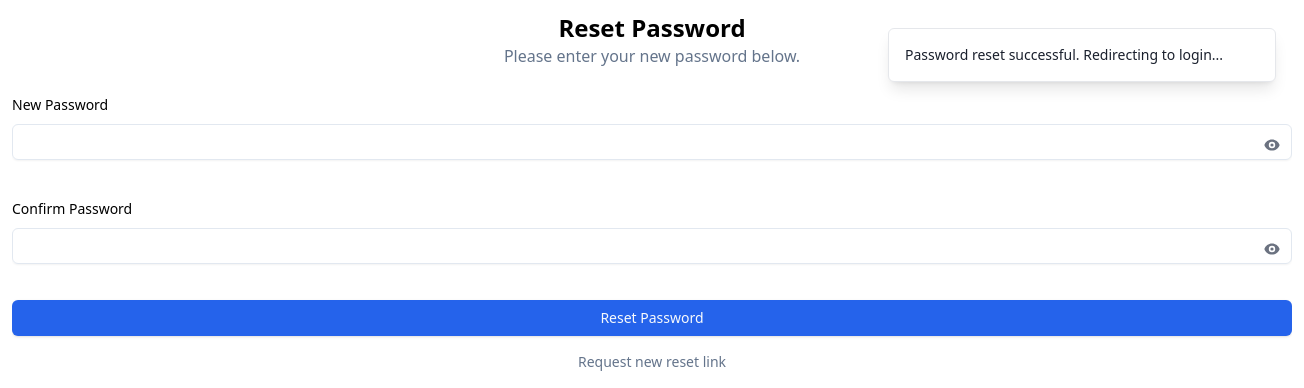
Test: Presentation > Features > Auth > ResetPasswordForm › should show error when passwords do not match
Type "Password123!" into the password field with test id "password-input".
click(652, 142); type("Password123!")  # box [12,124,1292,160]
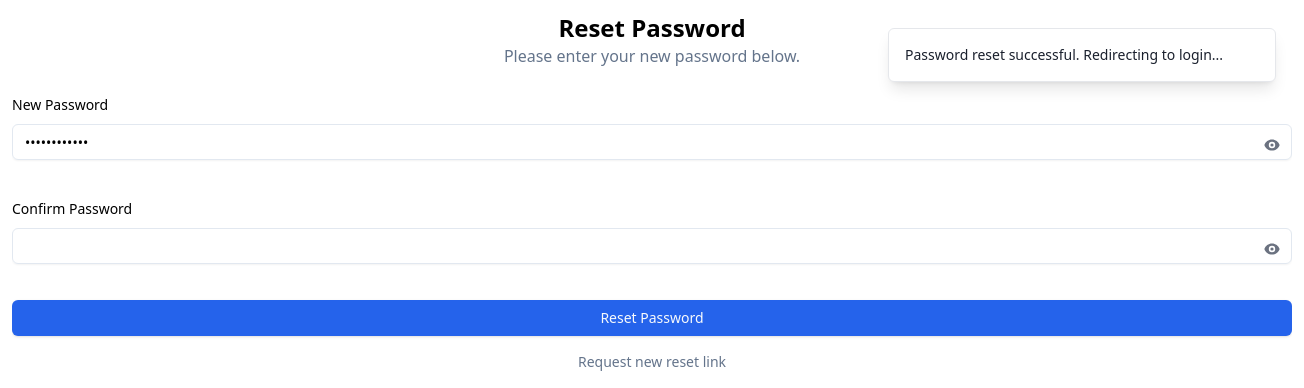
Type "DifferentPassword123!" into the password field with test id "confirm-password-input".
click(652, 246); type("DifferentPassword123!")  # box [12,228,1292,264]
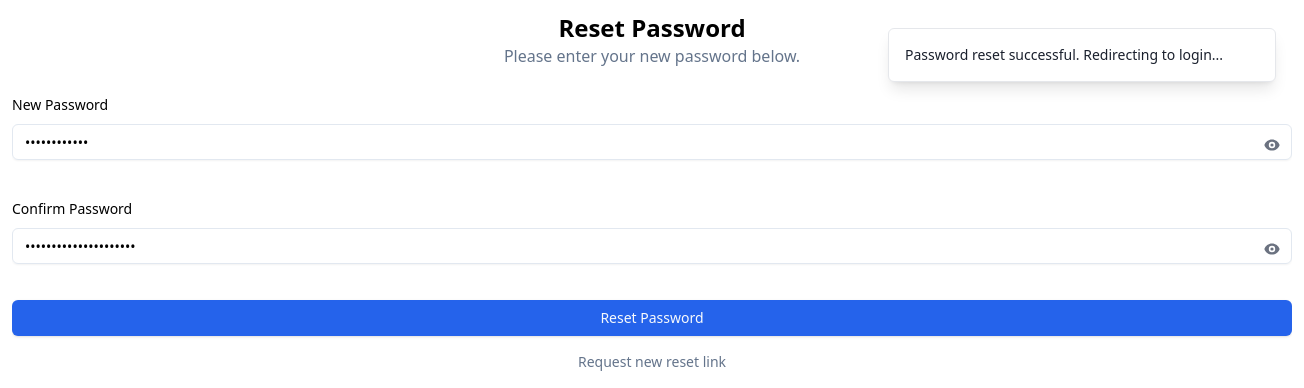
Click the button "Reset Password".
click(652, 318)  # box [12,300,1292,336]
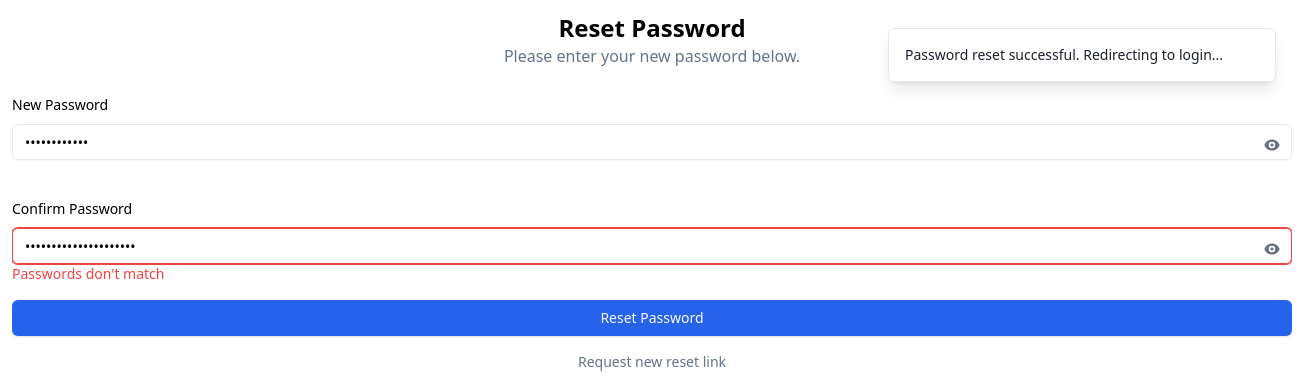
Now the text "Passwords don't match" is shown, box [12,264,164,283]
